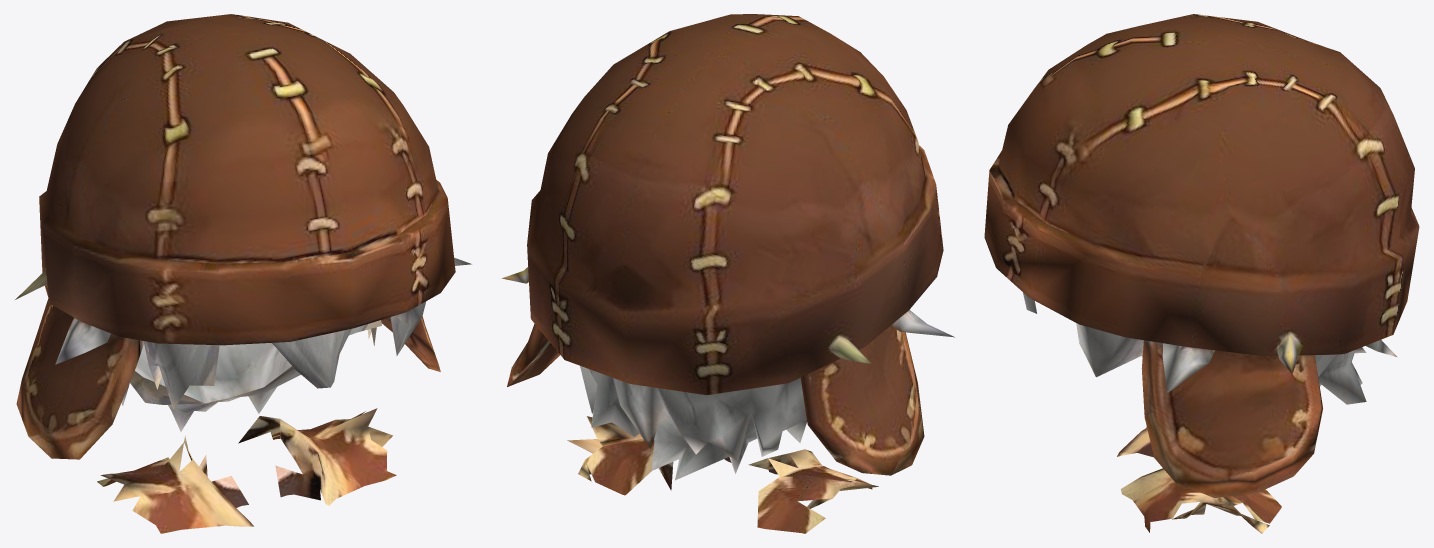
File: leather_cap.glb
The picture shows the model from 3 angles, left to right: view 1: azimuth 30°, elevation 25°; view 2: azimuth 150°, elevation 25°; view 3: azimuth 270°, elevation 25°; orthographic projection. The views are drawn at different scales.
Visible parts, largest first — view 1: Mesh_0; view 2: Mesh_0; view 3: Mesh_0.
Part boxes in pixels (box(x1,y1,x2,y2)): Mesh_0: box(15, 14, 471, 533); Mesh_0: box(501, 14, 954, 533); Mesh_0: box(984, 14, 1419, 533).
Bounding box in the file's own units: 0.3485 × 0.3566 × 0.3219.
1 material, 1 textured.
